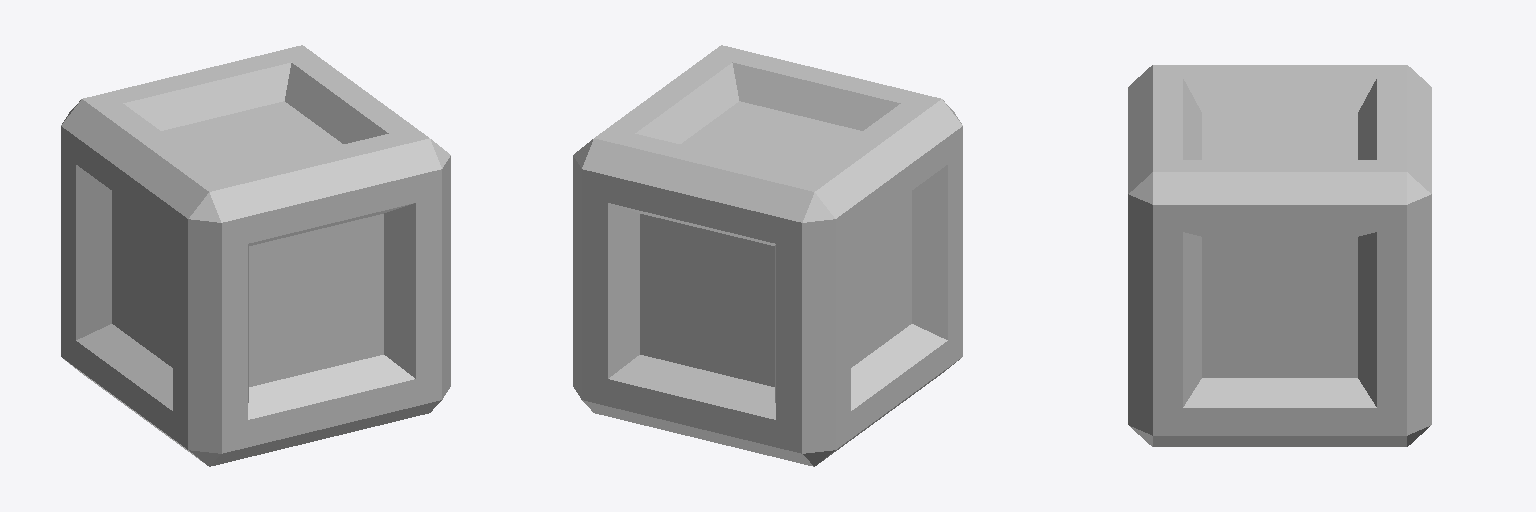
Rendered from crateItem.obj.
The picture shows the model from 3 angles: view 1: azimuth 30°, elevation 25°; view 2: azimuth 150°, elevation 25°; view 3: azimuth 270°, elevation 25°; orthographic projection.
Parts seen in each view (by area): view 1: crateItem; view 2: crateItem; view 3: crateItem.
Part boxes in pixels (left/top/right/bottom): crateItem: left=61, top=45, right=450, bottom=466; crateItem: left=573, top=45, right=962, bottom=466; crateItem: left=1128, top=65, right=1431, bottom=446.
Bounding box in the file's own units: 0.5 × 0.5 × 0.5.